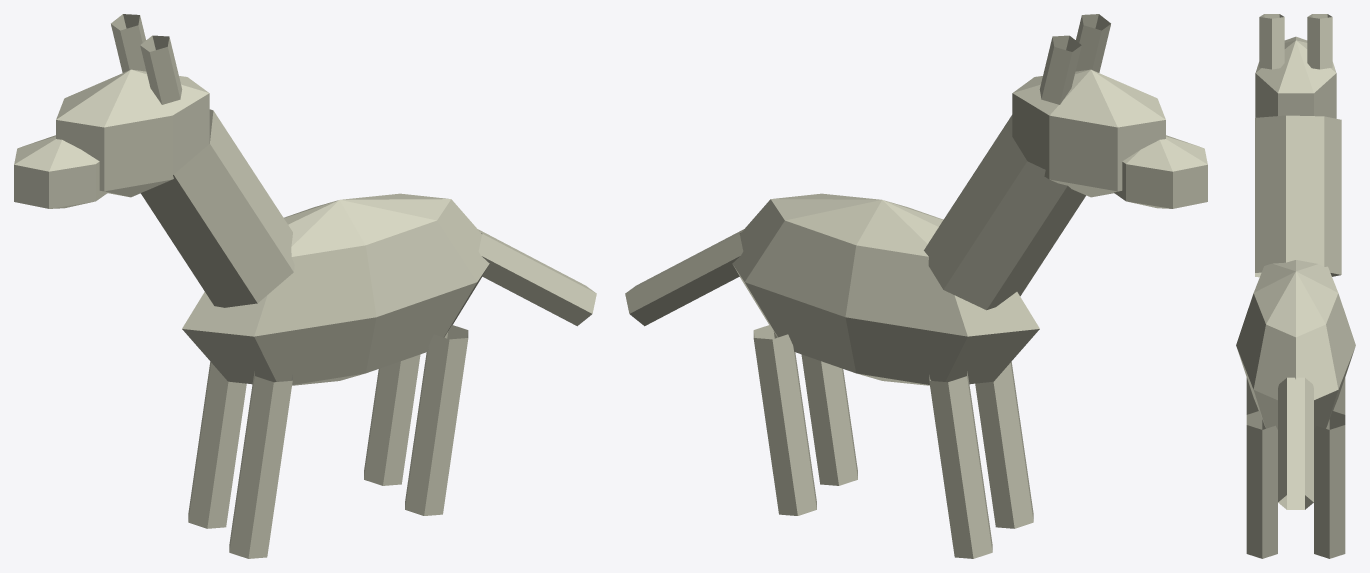
File: Horse_03.obj
The picture shows the model from 3 angles, left to right: view 1: azimuth 30°, elevation 25°; view 2: azimuth 150°, elevation 25°; view 3: azimuth 270°, elevation 25°; orthographic projection. The views are drawn at different scales.
Visible parts, largest first — view 1: Horse_03; view 2: Horse_03; view 3: Horse_03.
Boxes of the visible parts, x1,y1,x2,y2 form: Horse_03: (14,14,596,558); Horse_03: (625,14,1207,558); Horse_03: (1236,14,1355,558).
Size of the model in its own units: 2.27 by 1.99 by 0.5.
